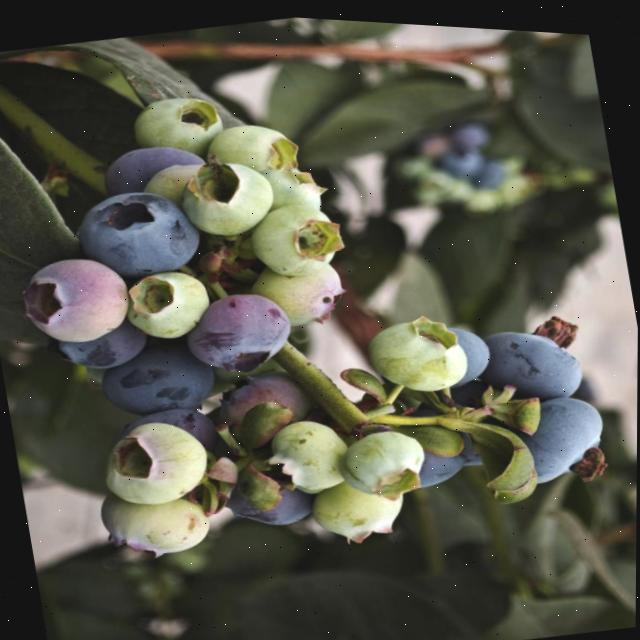RipeBlueBerry: (69, 176, 204, 287), (93, 327, 222, 428), (513, 383, 615, 485), (483, 310, 587, 403), (230, 453, 316, 531)
Semi-RipeBlueBerry: (14, 245, 138, 354), (177, 279, 298, 379), (209, 359, 313, 442)
UnripeBlueBerry: (95, 408, 215, 515), (363, 304, 474, 399), (174, 147, 280, 244), (94, 481, 214, 566), (244, 191, 346, 281), (303, 464, 410, 548), (116, 259, 217, 347), (248, 252, 352, 332), (264, 409, 354, 498), (334, 418, 431, 499), (127, 86, 226, 162), (203, 110, 301, 182)
